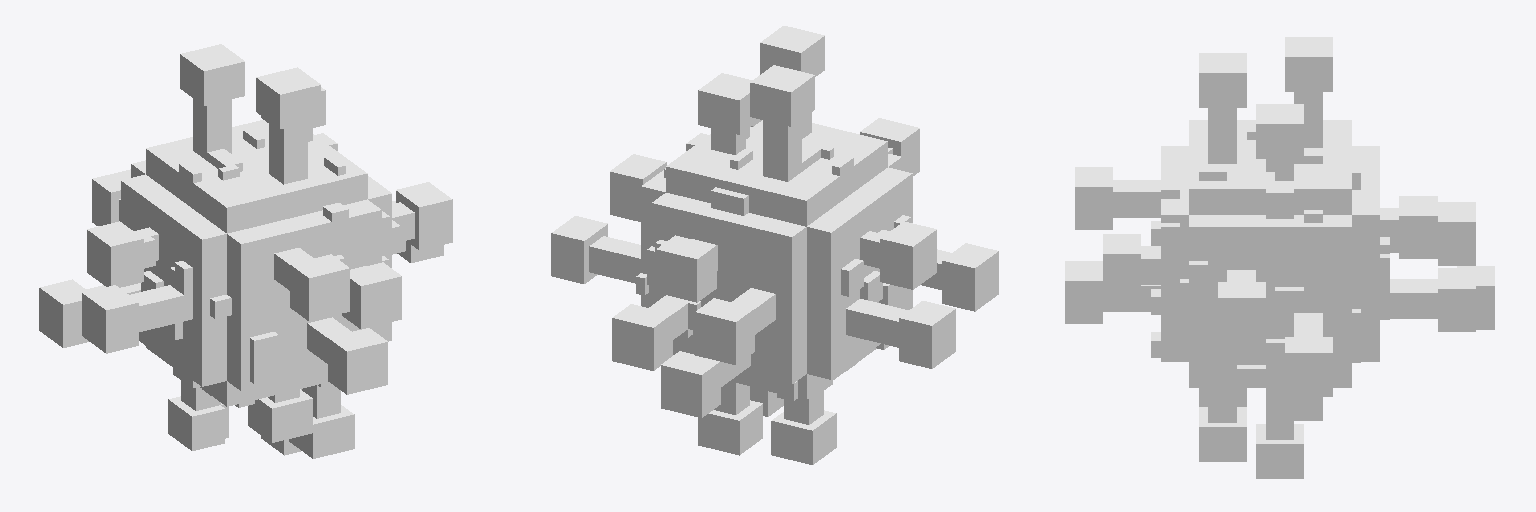
File: Hospital-39.obj
3 renders of one model, left to right at view 1: azimuth 30°, elevation 25°; view 2: azimuth 150°, elevation 25°; view 3: azimuth 270°, elevation 25°, orthographic.
Visible parts, largest first — view 1: object 1; view 2: object 1; view 3: object 1.
Part boxes in pixels (bbox=[...]): object 1: bbox=[39, 44, 452, 458]; object 1: bbox=[551, 26, 998, 464]; object 1: bbox=[1065, 37, 1494, 478].
Bounding box in the file's own units: 4.6 × 4.5 × 4.5.